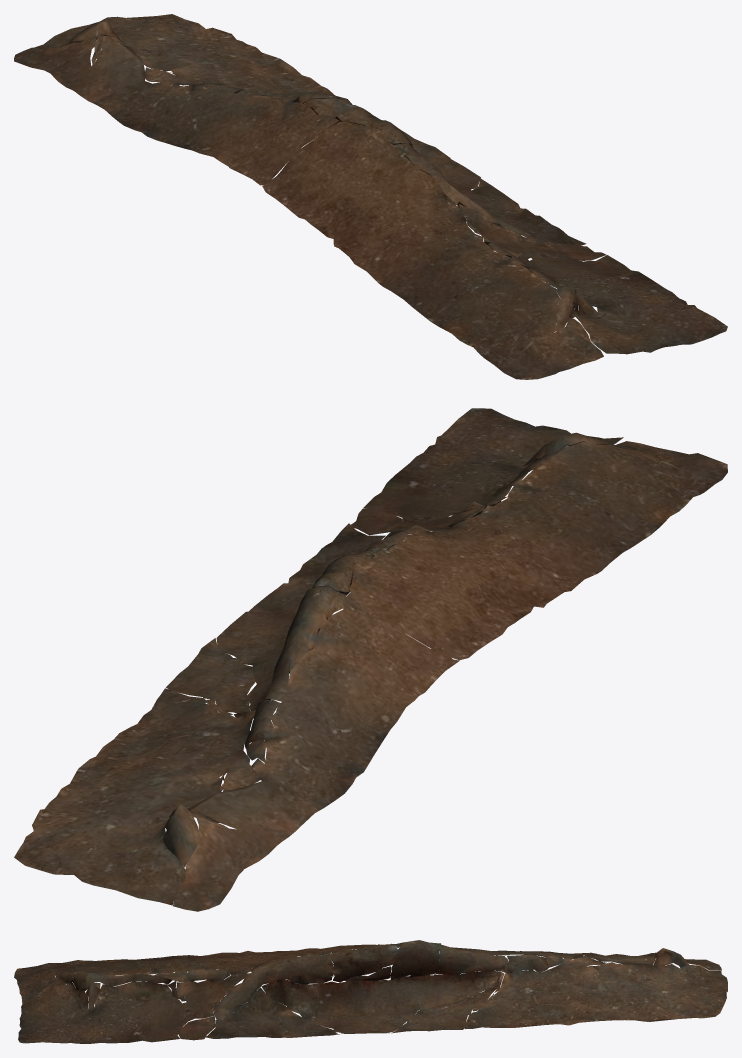
The model's file is root_single.glb.
The picture shows the model from 3 angles, top to bottom: view 1: azimuth 30°, elevation 25°; view 2: azimuth 150°, elevation 25°; view 3: azimuth 270°, elevation 25°; orthographic projection. The views are drawn at different scales.
Parts seen in each view (by area): view 1: single_root; view 2: single_root; view 3: single_root.
Part boxes in pixels (x1=…): single_root: x1=14, y1=14, x2=727, y2=379; single_root: x1=14, y1=408, x2=727, y2=911; single_root: x1=14, y1=940, x2=727, y2=1043.
Size of the model in its own units: 0.5557 by 0.1786 by 1.84.
1 material, 1 textured.
